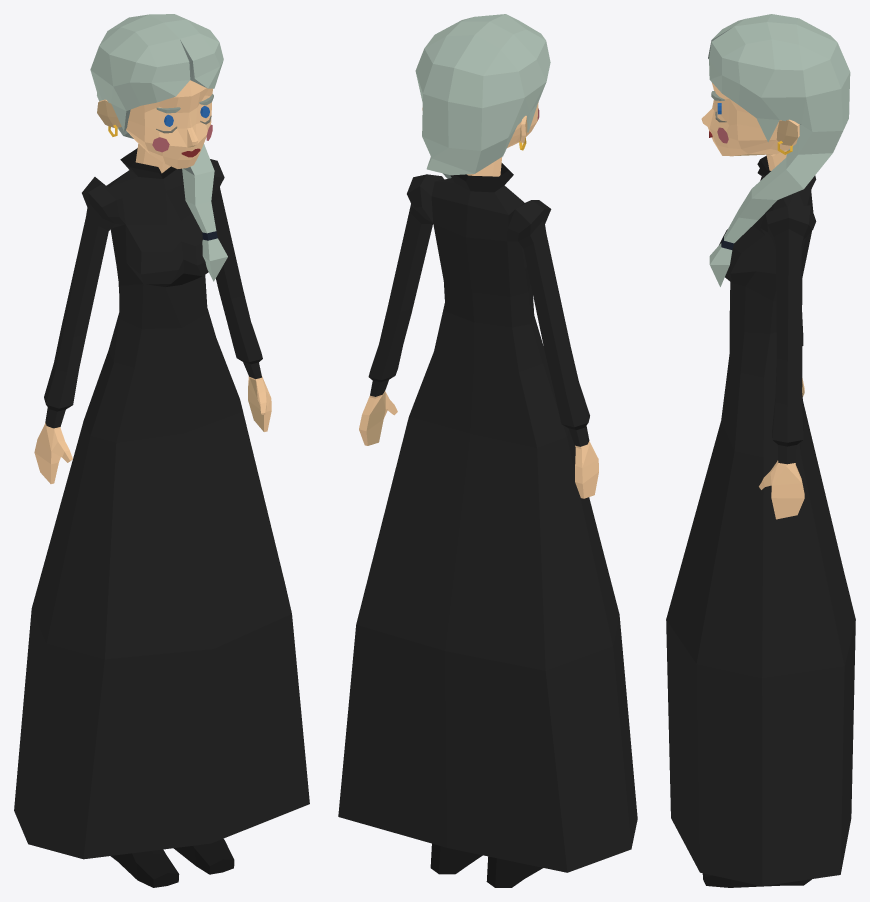
Rendered from character12.glb.
The picture shows the model from 3 angles, left to right: view 1: azimuth 30°, elevation 25°; view 2: azimuth 150°, elevation 25°; view 3: azimuth 270°, elevation 25°; orthographic projection.
Visible parts, largest first — view 1: body_0, hair_4; view 2: body_0, hair_4; view 3: body_0, hair_4.
Boxes of the visible parts, bbox=[...] form: body_0: bbox=[14, 80, 309, 887]; hair_4: bbox=[90, 14, 227, 281]; body_0: bbox=[338, 102, 637, 887]; hair_4: bbox=[415, 14, 550, 178]; body_0: bbox=[666, 83, 855, 887]; hair_4: bbox=[708, 14, 850, 286].
Bounding box in the file's own units: 0.6435 × 1.86 × 0.3788.
1 material, 1 textured.
